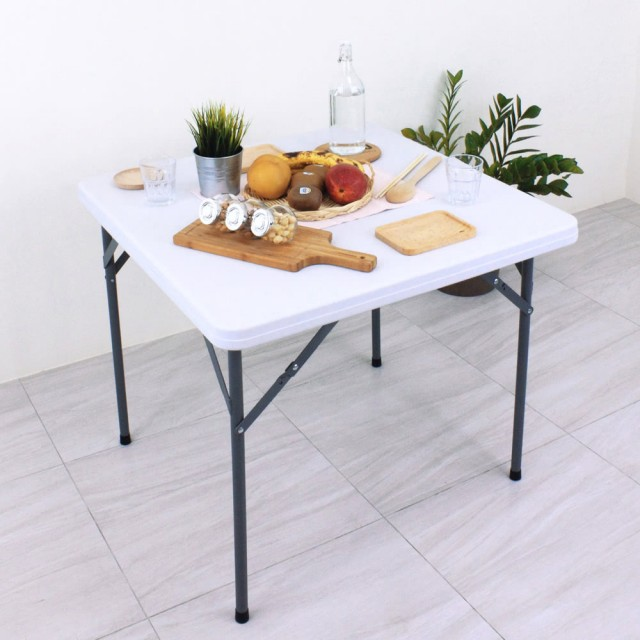table: (62, 114, 564, 630)
